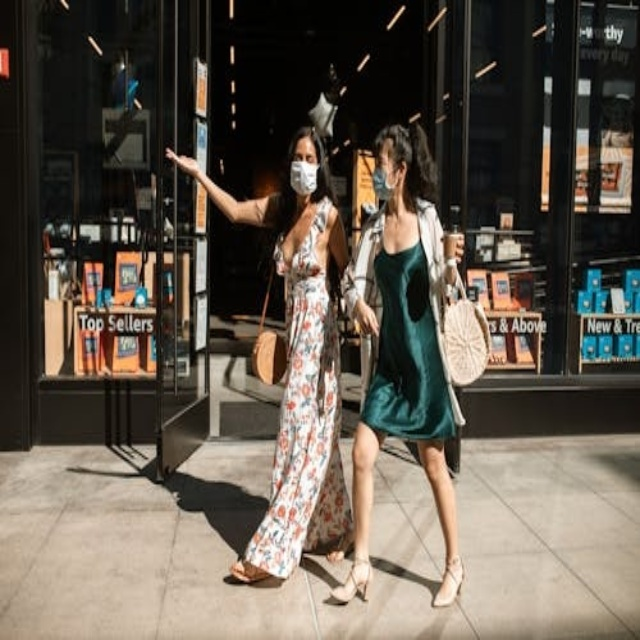Mascara: (289, 160, 319, 196), (372, 164, 398, 202)
Sin_guantes: (164, 142, 201, 177), (351, 300, 381, 340)
